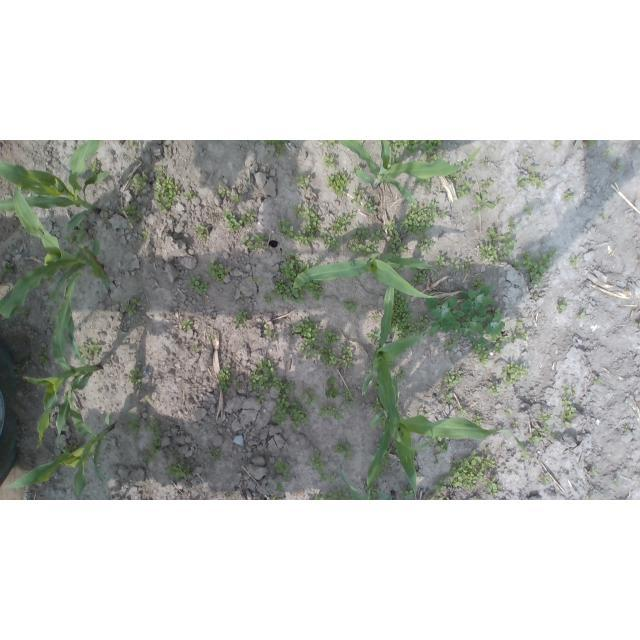Maize: (1, 185, 110, 368), (366, 411, 530, 500), (26, 274, 103, 451), (363, 286, 436, 451), (11, 385, 115, 500), (0, 140, 108, 229), (337, 141, 484, 206), (293, 249, 437, 299), (338, 468, 369, 500)
Weeds: (426, 277, 510, 365), (449, 449, 504, 499), (275, 250, 325, 304), (398, 201, 447, 238), (480, 227, 521, 269), (279, 204, 322, 244), (272, 381, 308, 428), (387, 140, 444, 168), (321, 211, 356, 253), (392, 289, 417, 340), (247, 356, 281, 393), (522, 249, 556, 286), (153, 166, 179, 212), (290, 317, 318, 359), (351, 223, 382, 257), (383, 219, 409, 259), (433, 255, 476, 276), (311, 450, 337, 483), (145, 417, 162, 463), (500, 359, 528, 386), (560, 385, 578, 424), (327, 169, 350, 198), (528, 424, 561, 444), (63, 222, 90, 246), (165, 457, 192, 480), (447, 160, 473, 183), (518, 168, 546, 189), (473, 190, 495, 216), (240, 232, 266, 252), (427, 477, 449, 500), (208, 259, 230, 282), (225, 206, 244, 232), (122, 203, 144, 225), (80, 338, 102, 360), (128, 172, 149, 195), (187, 276, 211, 296), (313, 489, 356, 500), (124, 365, 145, 387), (274, 458, 293, 482), (217, 363, 232, 393), (509, 318, 527, 343), (317, 405, 343, 421), (264, 140, 288, 157), (318, 346, 338, 366), (416, 236, 436, 255), (410, 269, 430, 288), (339, 344, 354, 369), (241, 208, 259, 228), (319, 327, 339, 345), (350, 186, 367, 207), (325, 377, 342, 398), (430, 434, 449, 452), (445, 370, 464, 388), (337, 444, 356, 461), (194, 222, 210, 242), (456, 180, 472, 199), (340, 300, 361, 314), (123, 298, 138, 317), (34, 350, 51, 366), (63, 439, 81, 454), (87, 159, 101, 178), (295, 174, 311, 190), (418, 315, 431, 334), (371, 488, 391, 500), (127, 419, 143, 434), (364, 198, 378, 215), (341, 392, 355, 409), (471, 412, 484, 430), (236, 311, 249, 328), (415, 176, 432, 189), (247, 274, 265, 286), (308, 388, 321, 404), (486, 382, 502, 395), (400, 488, 414, 501), (262, 325, 275, 339), (540, 412, 555, 423), (182, 318, 195, 330), (208, 447, 221, 459), (443, 392, 455, 405), (1, 262, 14, 274), (324, 154, 335, 168), (367, 331, 381, 342), (479, 179, 493, 190), (395, 367, 406, 381), (231, 194, 246, 204), (563, 190, 575, 202), (373, 400, 384, 412), (351, 166, 363, 177), (98, 211, 110, 222), (558, 299, 567, 313), (418, 409, 429, 420), (541, 475, 552, 486), (256, 392, 266, 404), (319, 141, 336, 148), (184, 191, 197, 200), (219, 187, 229, 198), (262, 294, 272, 305), (276, 481, 285, 493), (524, 204, 532, 217), (72, 248, 82, 258), (45, 275, 55, 285), (267, 494, 283, 500), (48, 291, 56, 303), (457, 409, 467, 418), (603, 148, 614, 156), (18, 308, 29, 316), (383, 454, 389, 468), (127, 141, 139, 148), (570, 256, 579, 265), (592, 376, 601, 385), (377, 470, 385, 480), (234, 379, 242, 389), (379, 416, 385, 429), (505, 408, 514, 416), (614, 478, 621, 488), (591, 466, 598, 476), (576, 310, 584, 318), (508, 220, 516, 228), (588, 141, 597, 148), (372, 379, 378, 389), (143, 232, 150, 240), (512, 421, 520, 428), (523, 451, 529, 460), (47, 308, 53, 317), (372, 315, 379, 322), (616, 163, 623, 170), (356, 140, 364, 146), (496, 197, 504, 203), (209, 334, 216, 340), (523, 156, 529, 162), (556, 141, 563, 146), (602, 213, 607, 220), (531, 295, 537, 300), (191, 344, 197, 349), (365, 486, 369, 493), (636, 324, 640, 329), (588, 496, 593, 500), (625, 428, 629, 432)
